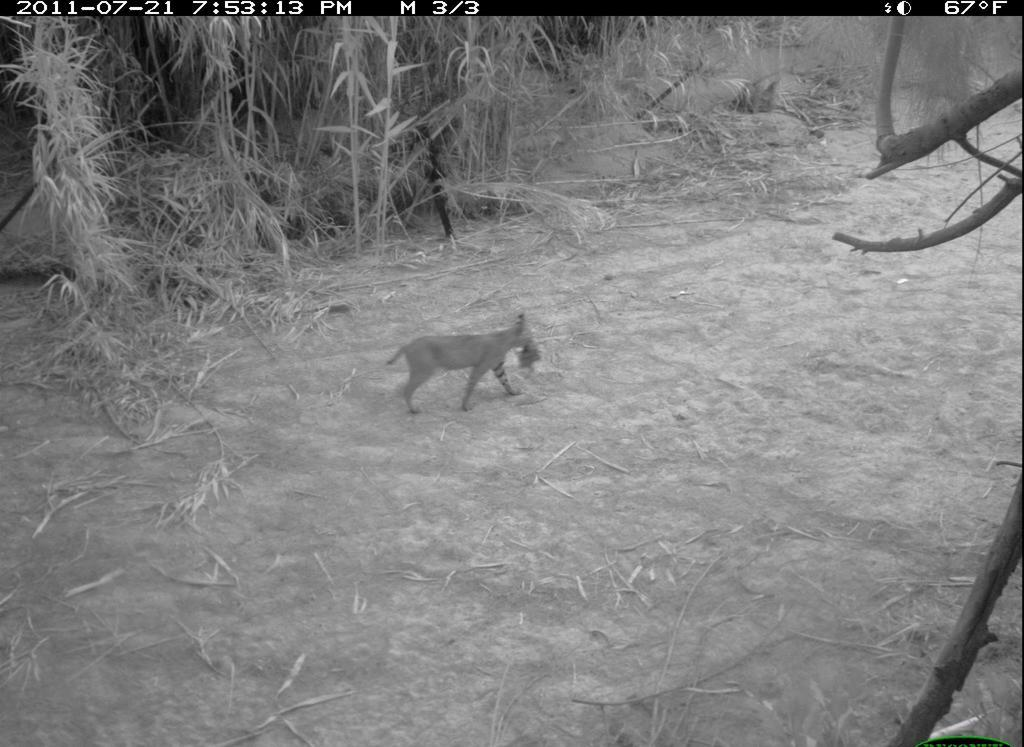rabbit: (514, 334, 547, 381)
